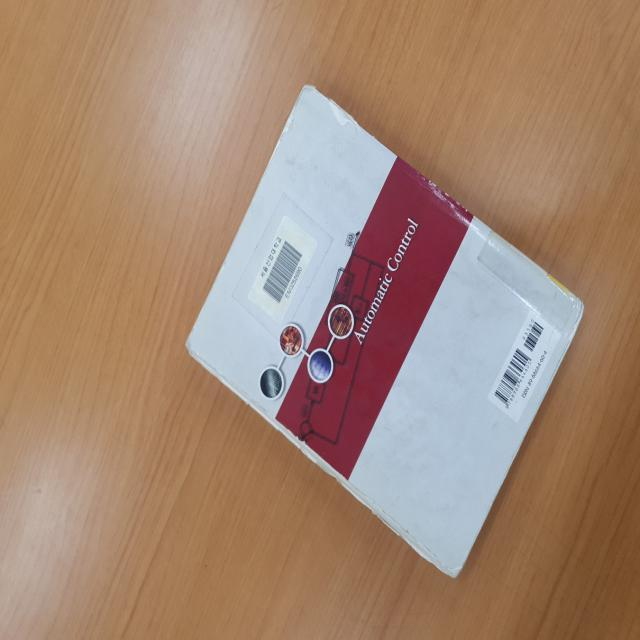Wornout: (267, 80, 315, 167), (285, 428, 345, 487), (487, 433, 526, 516), (316, 89, 360, 128), (355, 487, 399, 523), (426, 179, 471, 213), (399, 523, 437, 559), (548, 341, 572, 390), (180, 319, 199, 357), (569, 298, 585, 341), (430, 559, 465, 578)
